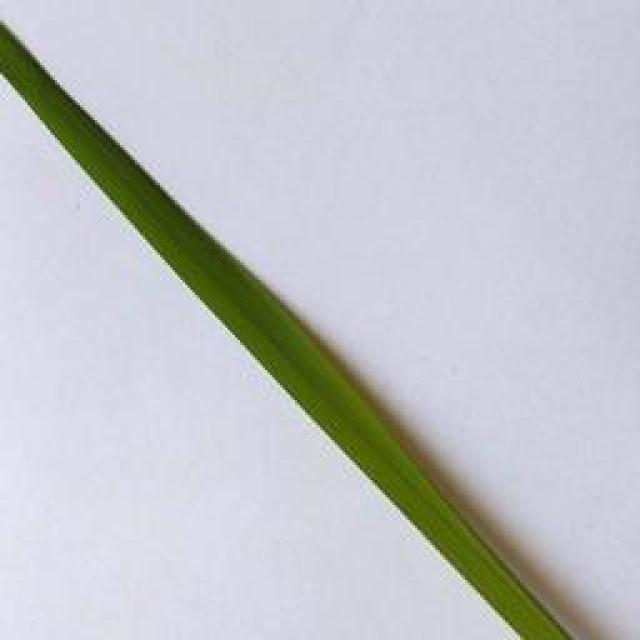Healthy-Plant: (0, 24, 234, 286)
